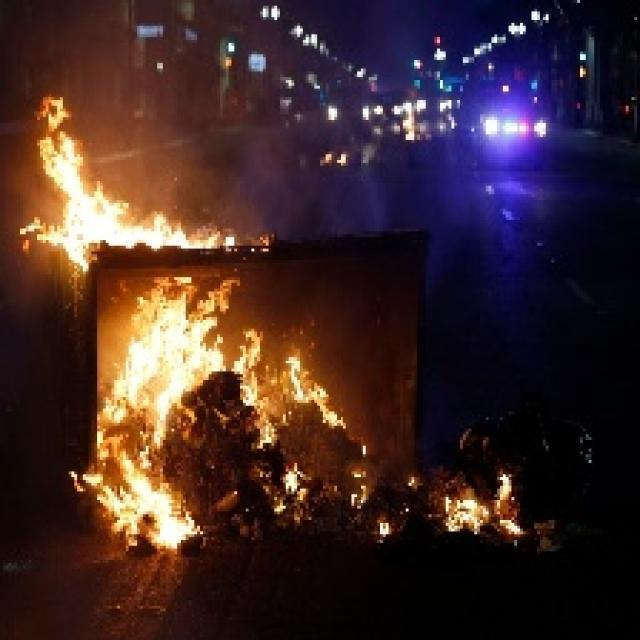Fire: (18, 92, 228, 262), (105, 276, 234, 421), (72, 429, 188, 543), (237, 331, 339, 446)
